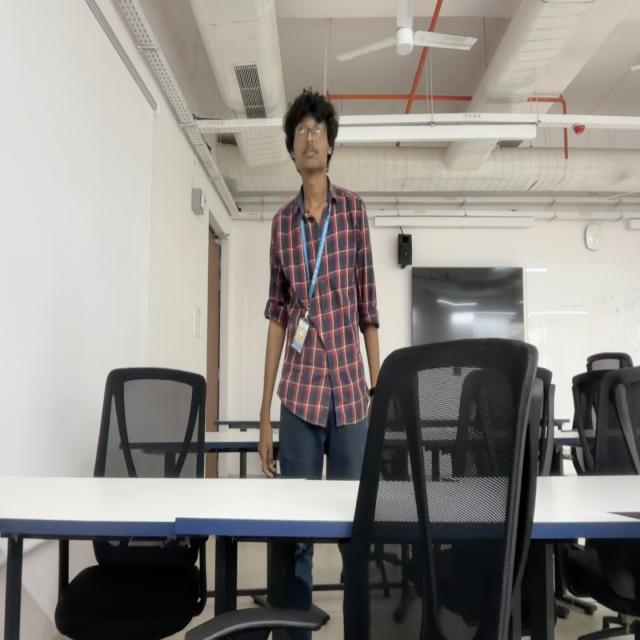darshan: (282, 84, 340, 175)
